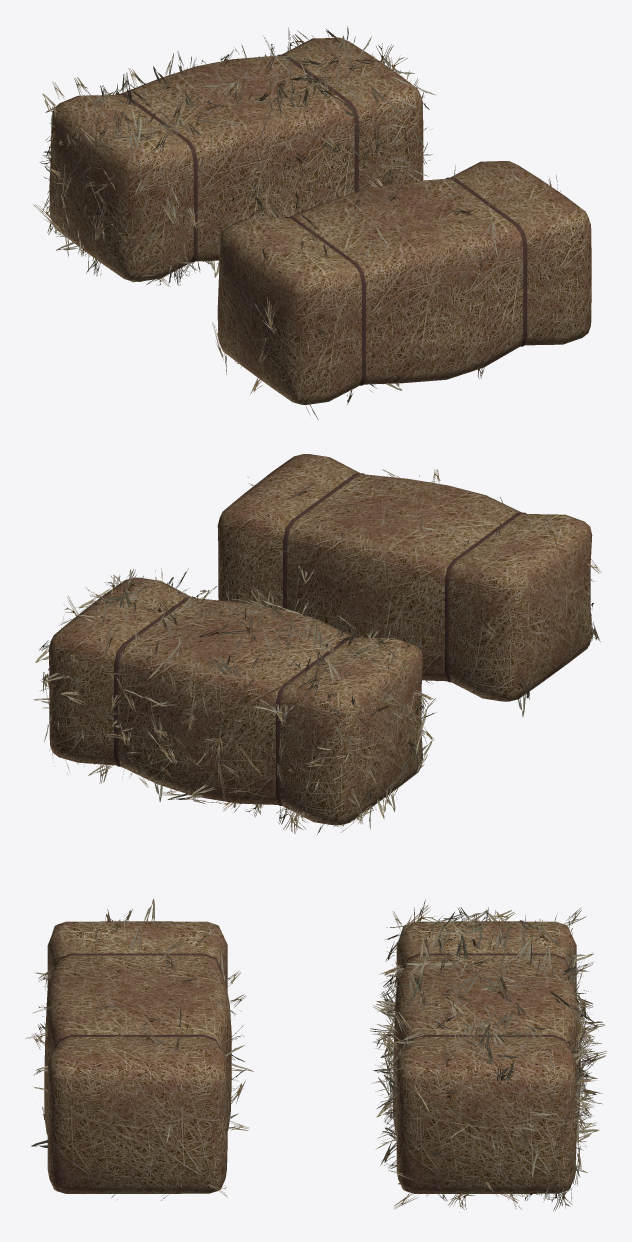
The model's file is hay.glb.
3 renders of one model, top to bottom at view 1: azimuth 30°, elevation 25°; view 2: azimuth 150°, elevation 25°; view 3: azimuth 270°, elevation 25°, orthographic. The views are drawn at different scales.
Parts seen in each view (by area): view 1: hay; view 2: hay; view 3: hay.
Part boxes in pixels (x1,y1,x2,y2): hay: (33,26,591,419); hay: (33,454,601,834); hay: (25,898,606,1212).
Bounding box in the file's own units: 0.7386 × 0.3839 × 1.
Materials: 1 (1 with a texture image).
